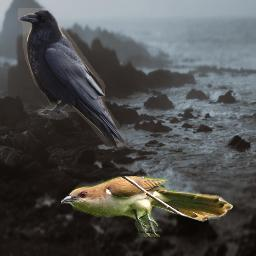Crow: (18, 8, 127, 151)
Cuckoo: (61, 176, 234, 237)
